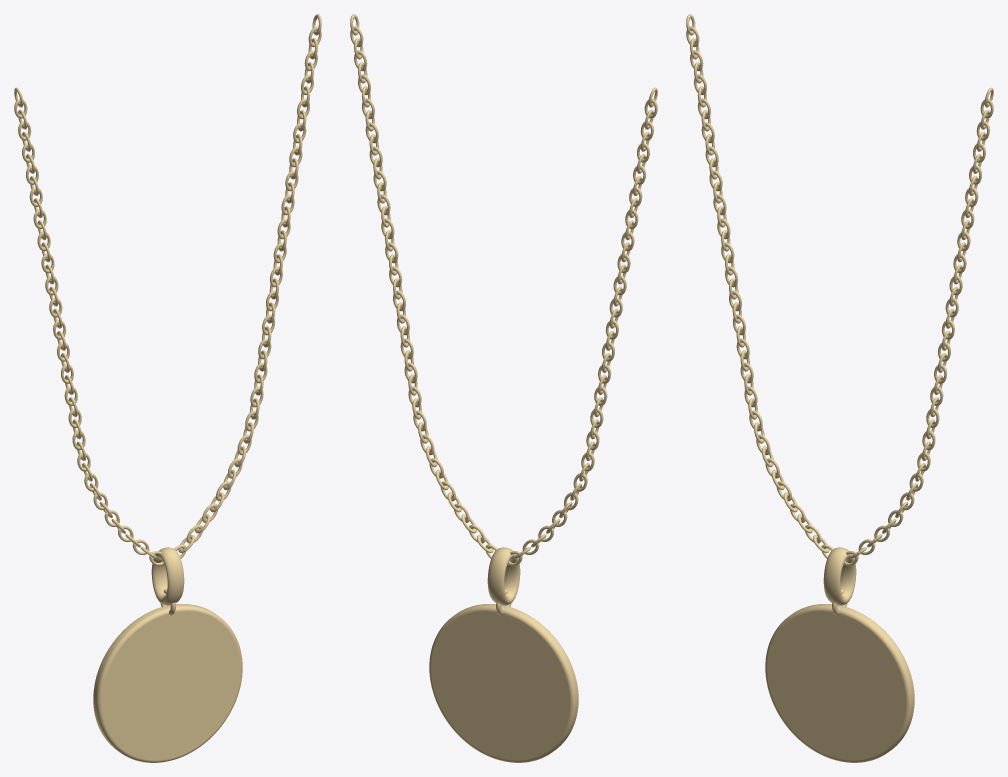
Rendered from medalla-firma.glb.
3 renders of one model, left to right at view 1: azimuth 30°, elevation 25°; view 2: azimuth 150°, elevation 25°; view 3: azimuth 330°, elevation 25°, orthographic.
Parts seen in each view (by area): view 1: Medalla_Cara, Cadena, Medalla_Cuerpo, Argolla; view 2: Medalla_Reverso, Cadena, Medalla_Cuerpo, Argolla; view 3: Medalla_Cara, Cadena, Medalla_Cuerpo, Argolla.
Part boxes in pixels (bbox=[...]): Medalla_Cara: bbox=[101, 611, 240, 760]; Cadena: bbox=[14, 14, 321, 565]; Medalla_Cuerpo: bbox=[93, 604, 242, 762]; Argolla: bbox=[151, 547, 184, 615]; Medalla_Reverso: bbox=[431, 611, 570, 760]; Cadena: bbox=[350, 14, 657, 565]; Medalla_Cuerpo: bbox=[429, 604, 578, 762]; Argolla: bbox=[487, 547, 520, 615]; Medalla_Cara: bbox=[767, 611, 906, 760]; Cadena: bbox=[686, 14, 993, 565]; Medalla_Cuerpo: bbox=[765, 604, 914, 762]; Argolla: bbox=[823, 547, 856, 615].
Bounding box in the file's own units: 0.0379 × 0.0835 × 0.00424.
